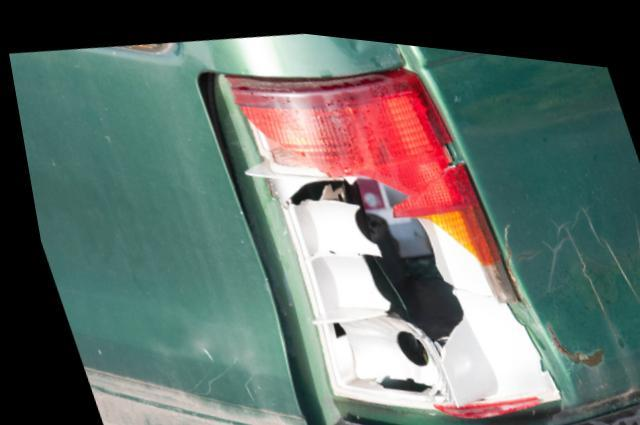dent: (332, 29, 367, 45)
lamp broken: (209, 56, 548, 425)
